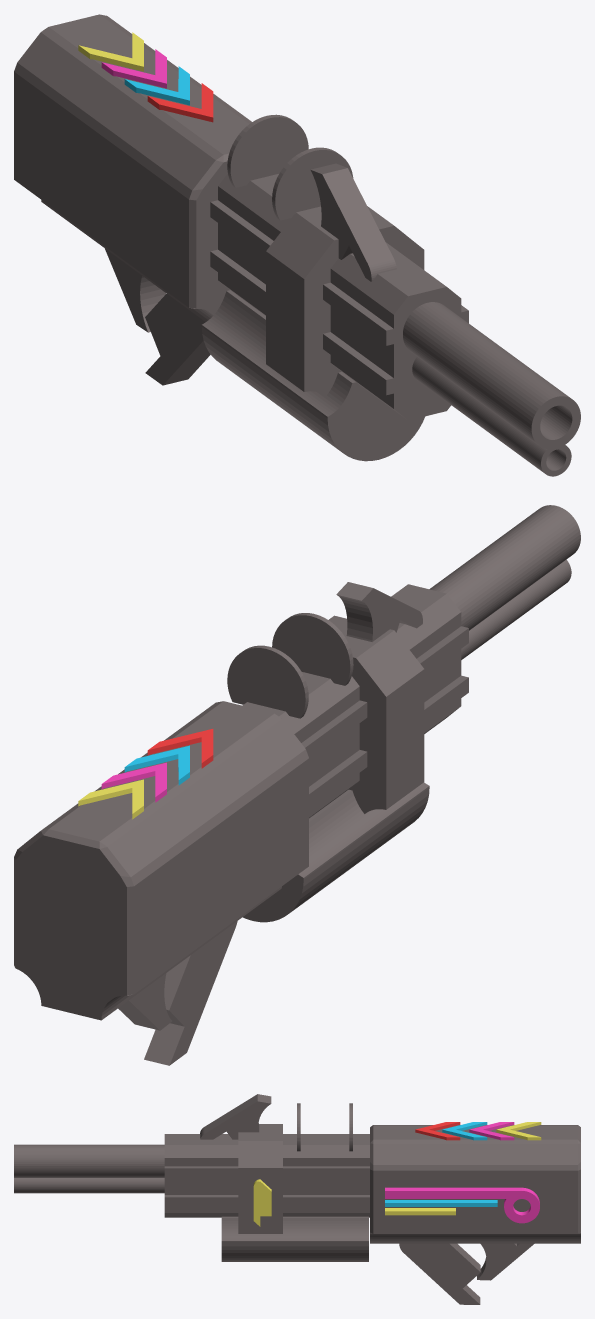
Rendered from Blaster.gltf.
3 renders of one model, top to bottom at view 1: azimuth 30°, elevation 25°; view 2: azimuth 150°, elevation 25°; view 3: azimuth 270°, elevation 25°, orthographic. The views are drawn at different scales.
Visible parts, largest first — view 1: Gun; view 2: Gun; view 3: Gun.
Boxes of the visible parts, x1=… form: Gun: x1=14, y1=14, x2=580, y2=476; Gun: x1=14, y1=505, x2=580, y2=1065; Gun: x1=14, y1=1094, x2=580, y2=1304.
Size of the model in its own units: 0.1909 by 0.475 by 1.22.
2 materials, 1 textured.
